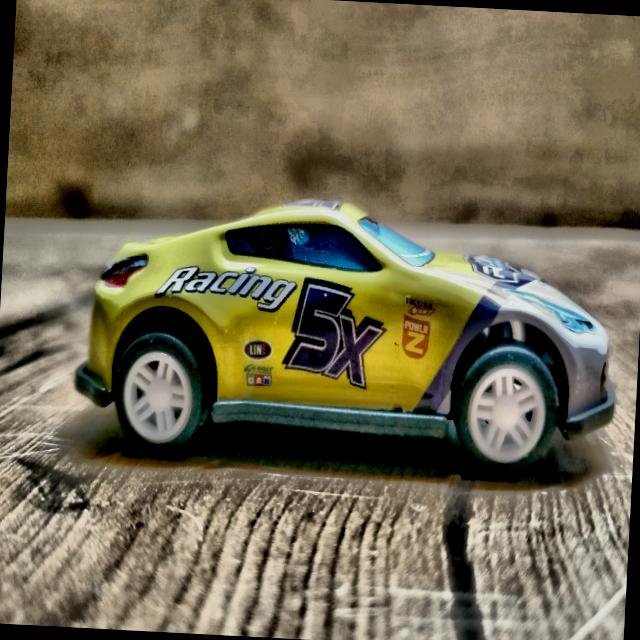Car: (72, 189, 624, 480)
